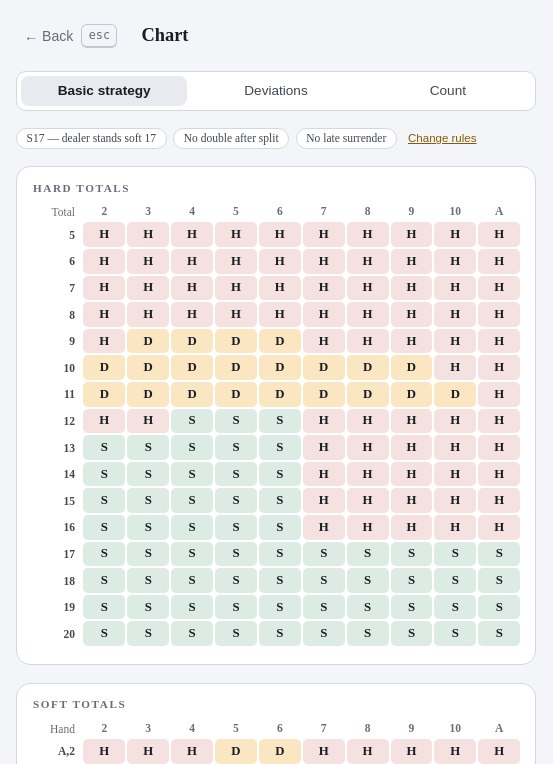
Test: ChartPageComponent › the deviation list › says the surrender indices are off the felt without Late Surrender
Click the button with class "chart__mode" showing "Deviations": (276, 91) [193,76,359,106]
(page scrolled)
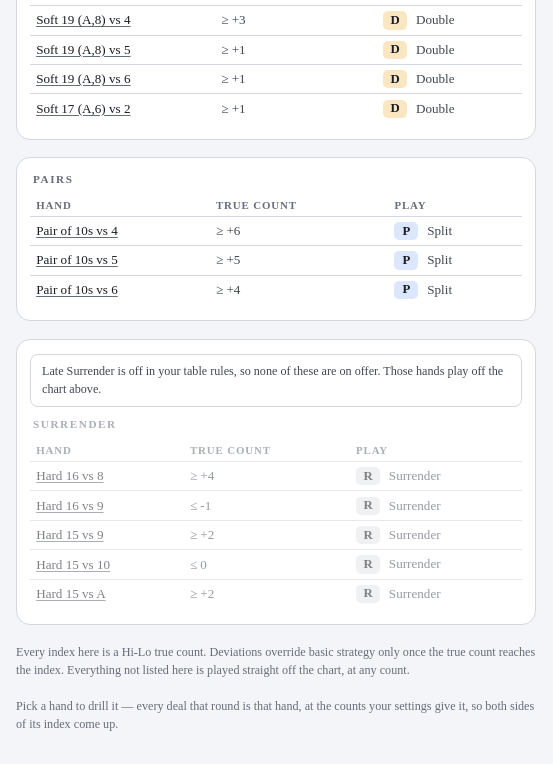
Expected: the text with class "chart__note--off" shows "Late Surrender is off", [42,364,503,396]
